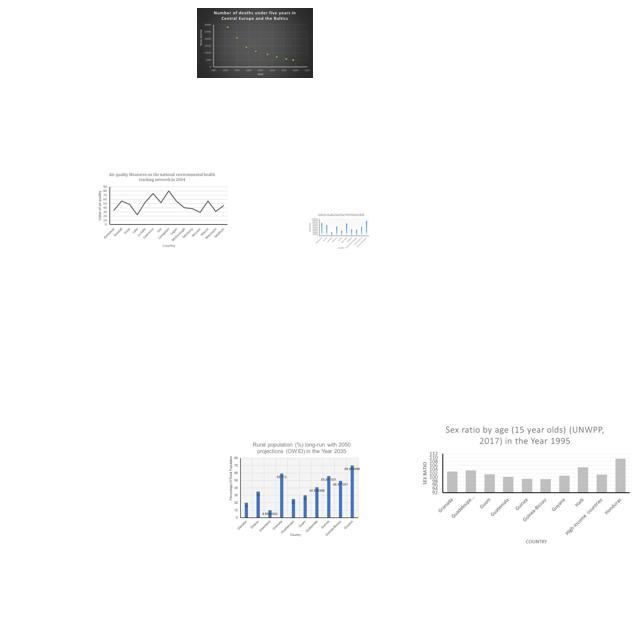Graph: (417, 421, 633, 547), (227, 440, 361, 541), (96, 170, 230, 249), (197, 8, 313, 78), (309, 213, 370, 249)
